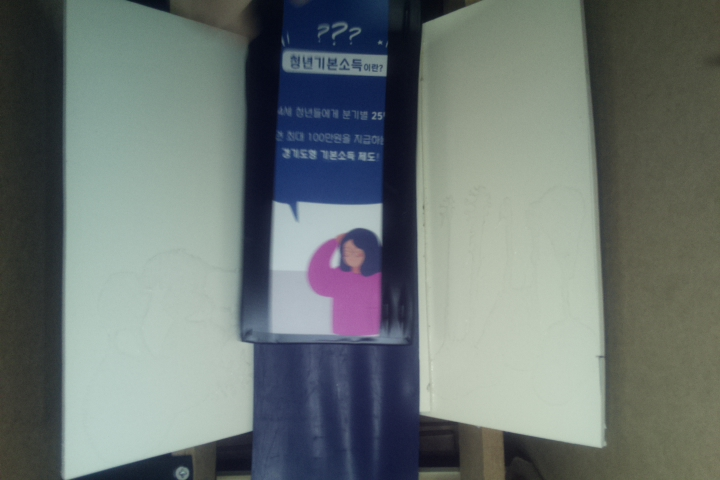book: (241, 1, 424, 343)
